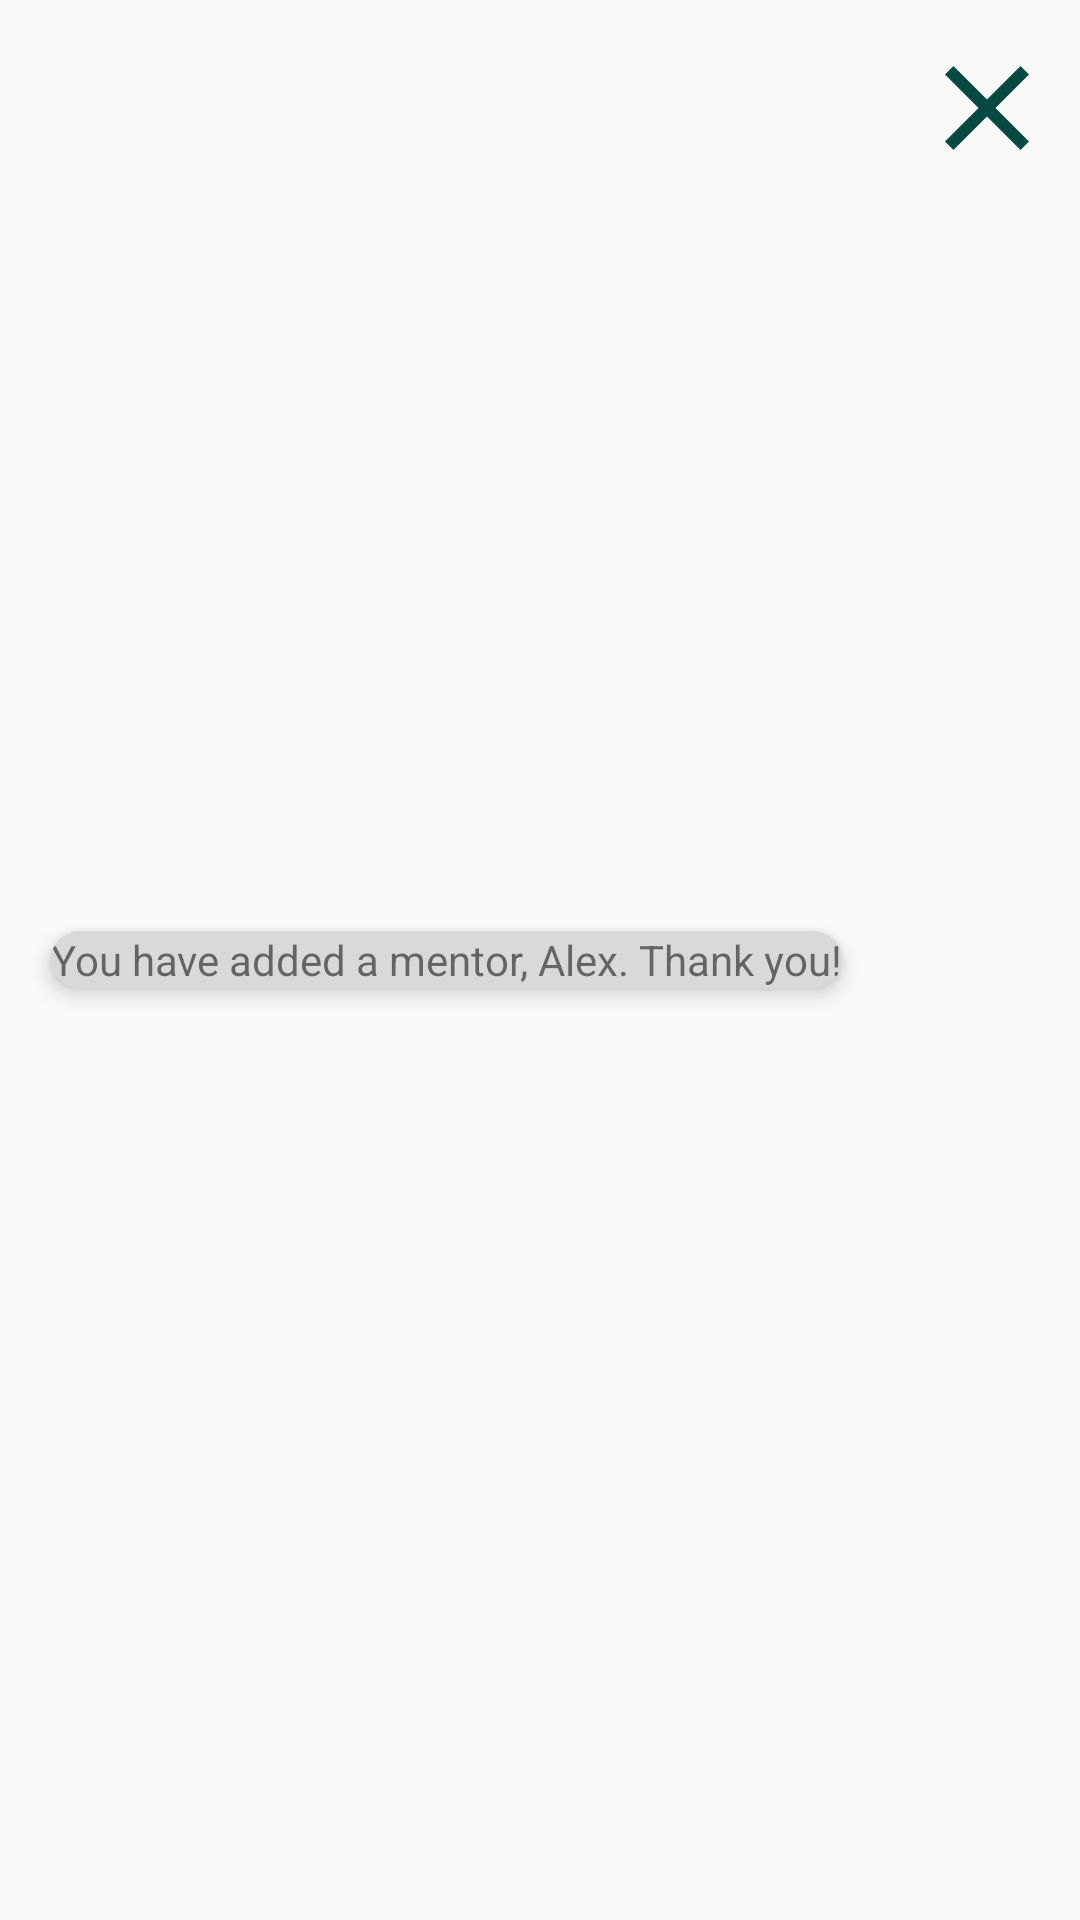

Locate icon controls on the screen. Image size 1080w x 1920h, boxes as bbox(x1, y1, x2, y2).
crossbutton: bbox(945, 66, 1029, 150)
